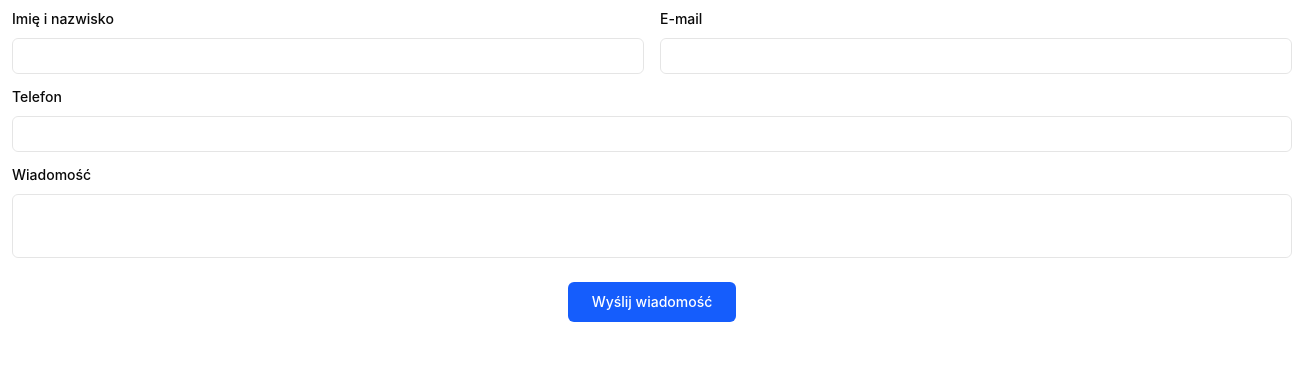
Test: ContactForm › submits the form and resets fields after success
Type "Jan Kowalski" into the field labelled "Imię i nazwisko" at (328, 56), box [12, 38, 644, 74]
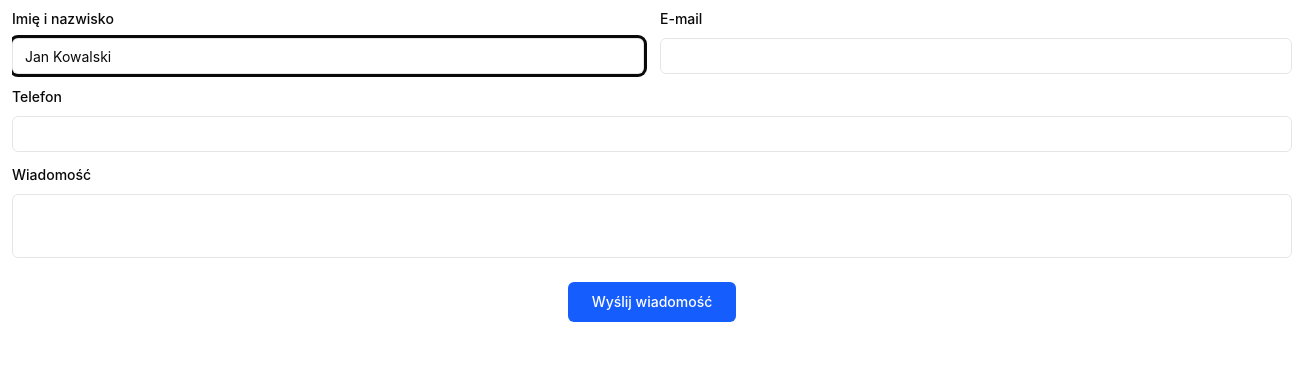
Type "jan@example.com" into the field labelled "E-mail" at (976, 56), box [660, 38, 1292, 74]
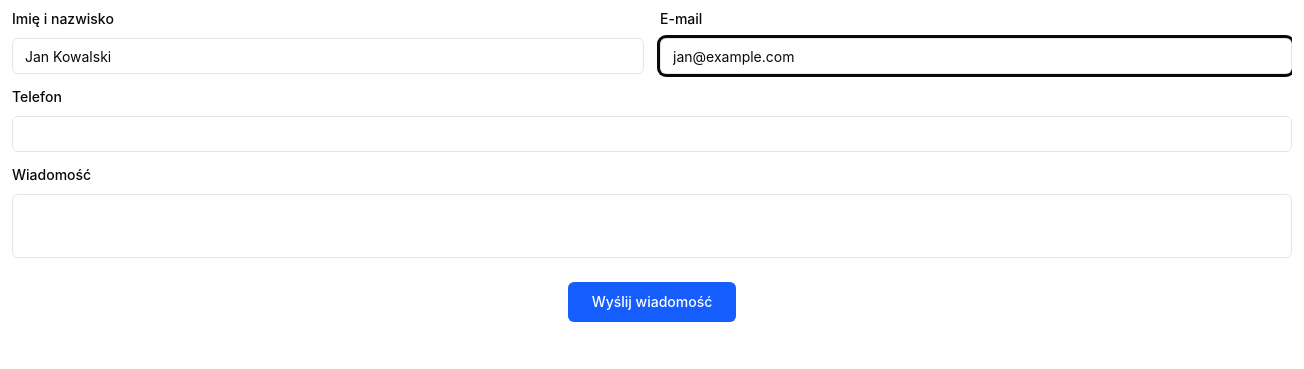
Type "123456789" into the field labelled "Telefon" at (652, 134), box [12, 116, 1292, 152]
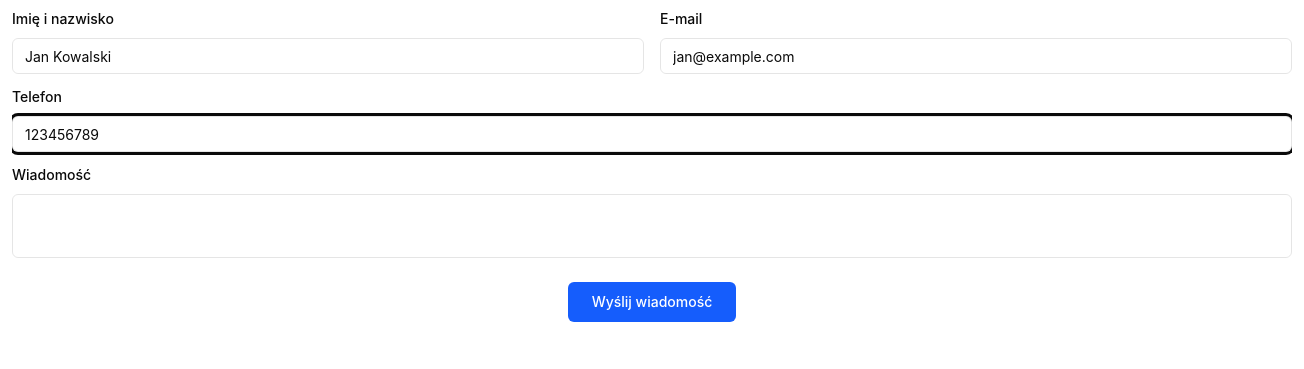
Type "Dzień dobry" into the text box labelled "Wiadomość" at (652, 226), box [12, 194, 1292, 258]
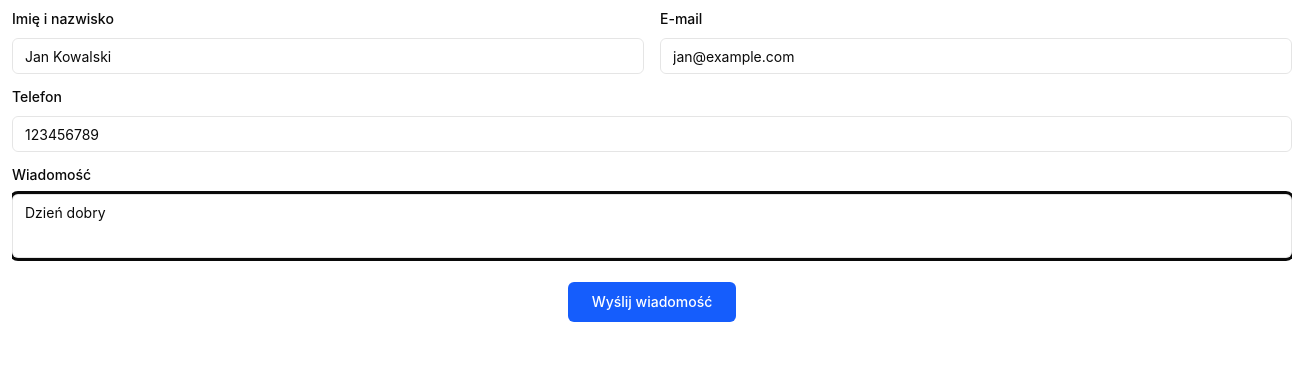
Click the button "Wyślij wiadomość" at (652, 302), box [568, 282, 736, 322]
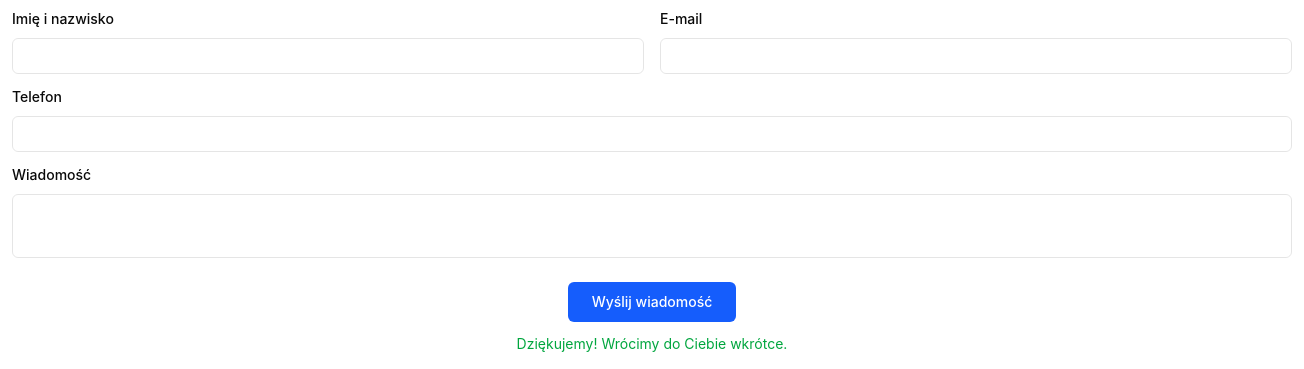
Result: the text "Dziękujemy! Wrócimy do Ciebie wkrótce." is shown at [517, 335, 787, 352]
Result: the field labelled "Imię i nazwisko" is empty at [12, 38, 644, 74]
Result: the text box labelled "Wiadomość" is empty at [12, 194, 1292, 258]
